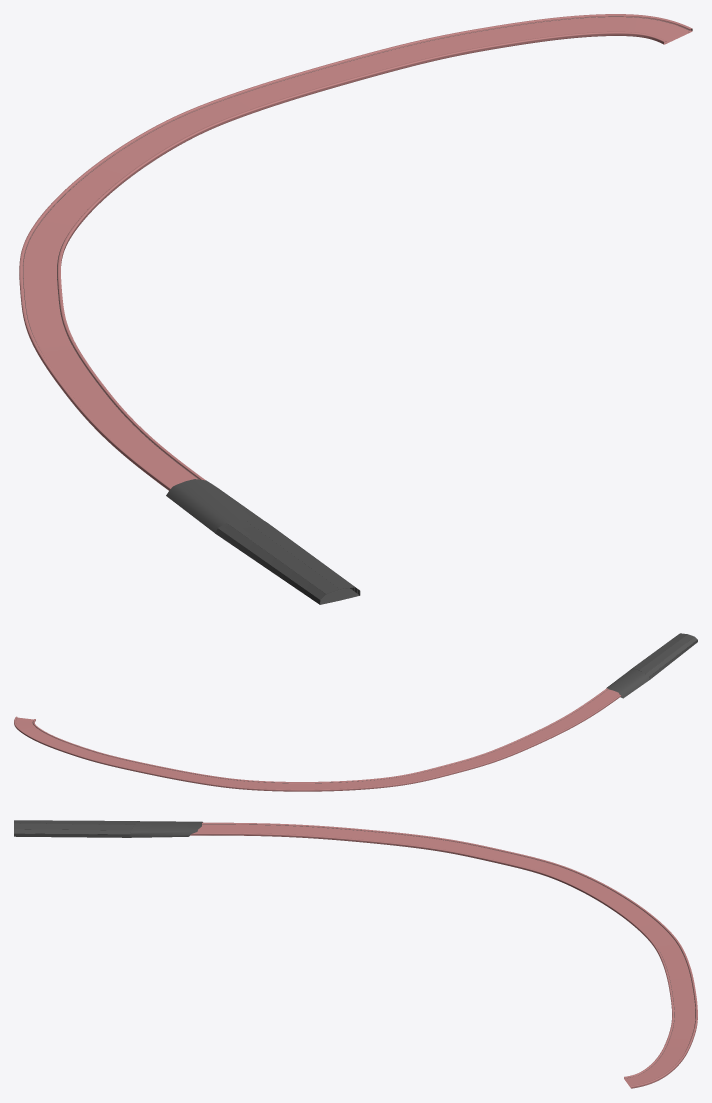
The model's file is future2_track3.fbx.
The picture shows the model from 3 angles, top to bottom: view 1: azimuth 30°, elevation 25°; view 2: azimuth 150°, elevation 25°; view 3: azimuth 270°, elevation 25°; orthographic projection. The views are drawn at different scales.
Visible parts, largest first — view 1: future2_track3; view 2: future2_track3; view 3: future2_track3.
Boxes of the visible parts, <box> form: future2_track3: <box>19,14,692,604</box>; future2_track3: <box>14,633,697,791</box>; future2_track3: <box>14,820,697,1088</box>.
Bounding box in the file's own units: 1957 × 28.06 × 2134.
